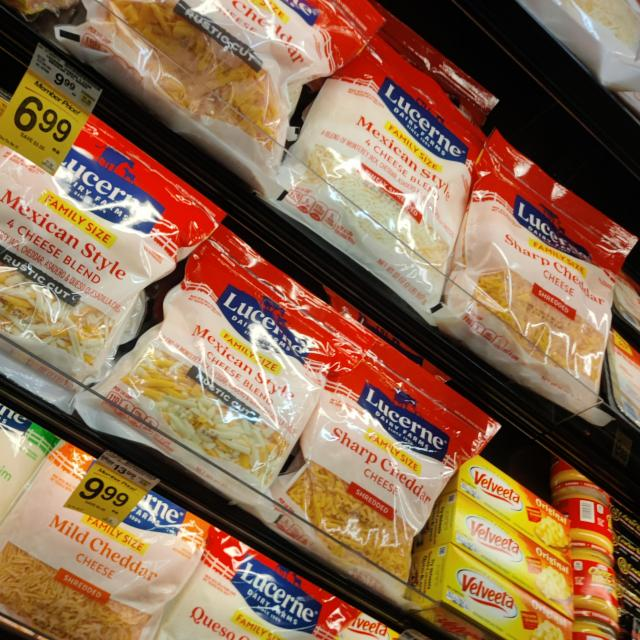Cheese: (0, 91, 233, 409), (283, 15, 495, 311), (112, 245, 352, 495), (84, 0, 382, 198), (450, 143, 640, 397), (280, 348, 502, 565), (0, 441, 209, 639)
